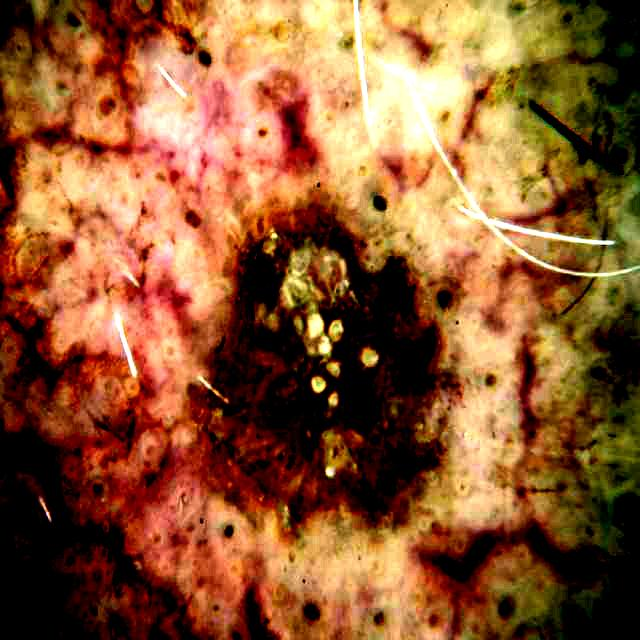AKIEC: (197, 210, 441, 526)
